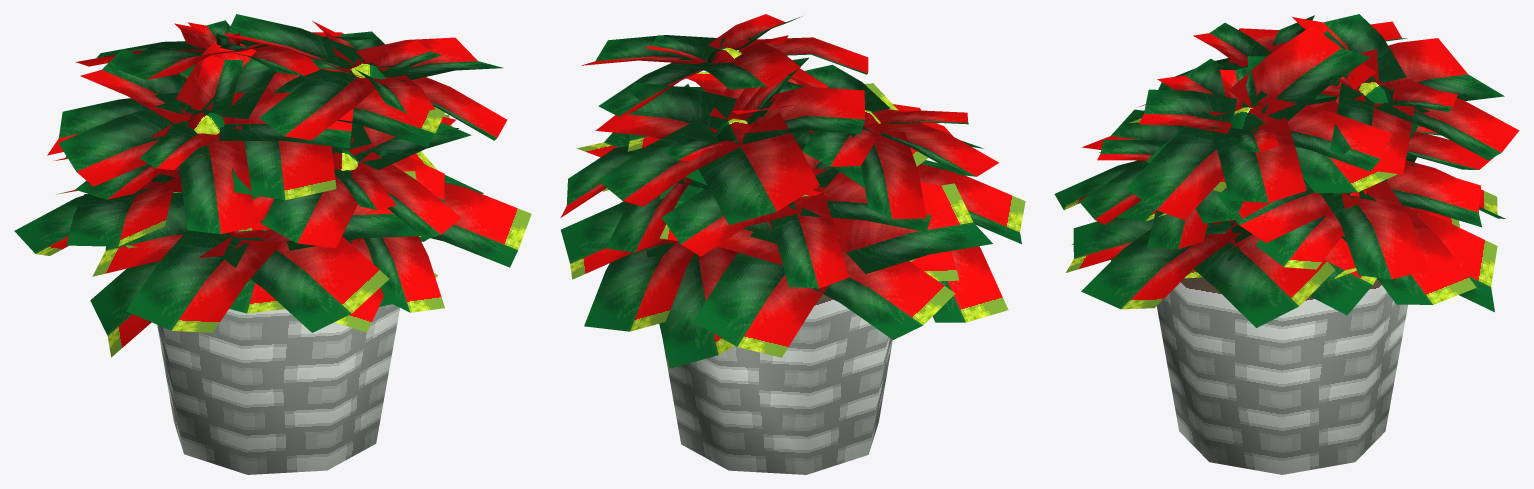
File: int_oth_poinsettia.dae
3 renders of one model, left to right at view 1: azimuth 30°, elevation 25°; view 2: azimuth 150°, elevation 25°; view 3: azimuth 270°, elevation 25°, orthographic. The views are drawn at different scales.
Visible parts, largest first — view 1: int_oth_poinsettia; view 2: int_oth_poinsettia; view 3: int_oth_poinsettia.
Boxes of the visible parts, x1,y1,x2,y2 form: int_oth_poinsettia: [14, 14, 531, 474]; int_oth_poinsettia: [560, 14, 1025, 474]; int_oth_poinsettia: [1054, 14, 1519, 474].
Size of the model in its own units: 26.4 by 23.92 by 25.97.
Materials: 2 (2 with a texture image).
